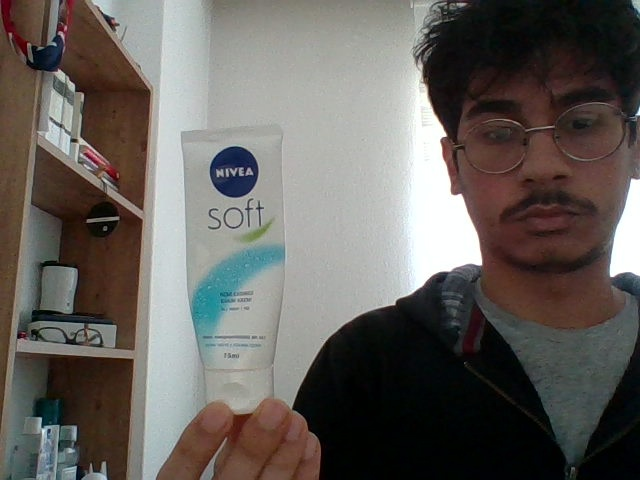NiveaSoft: (178, 130, 295, 373)
